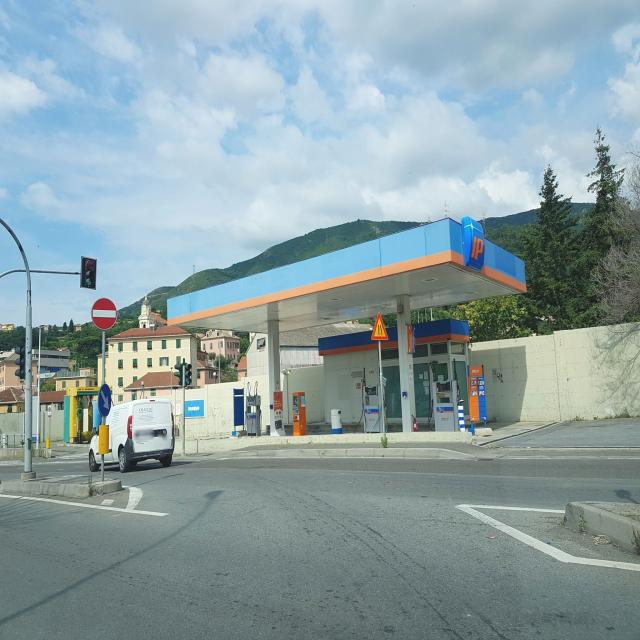car: (89, 397, 175, 473)
